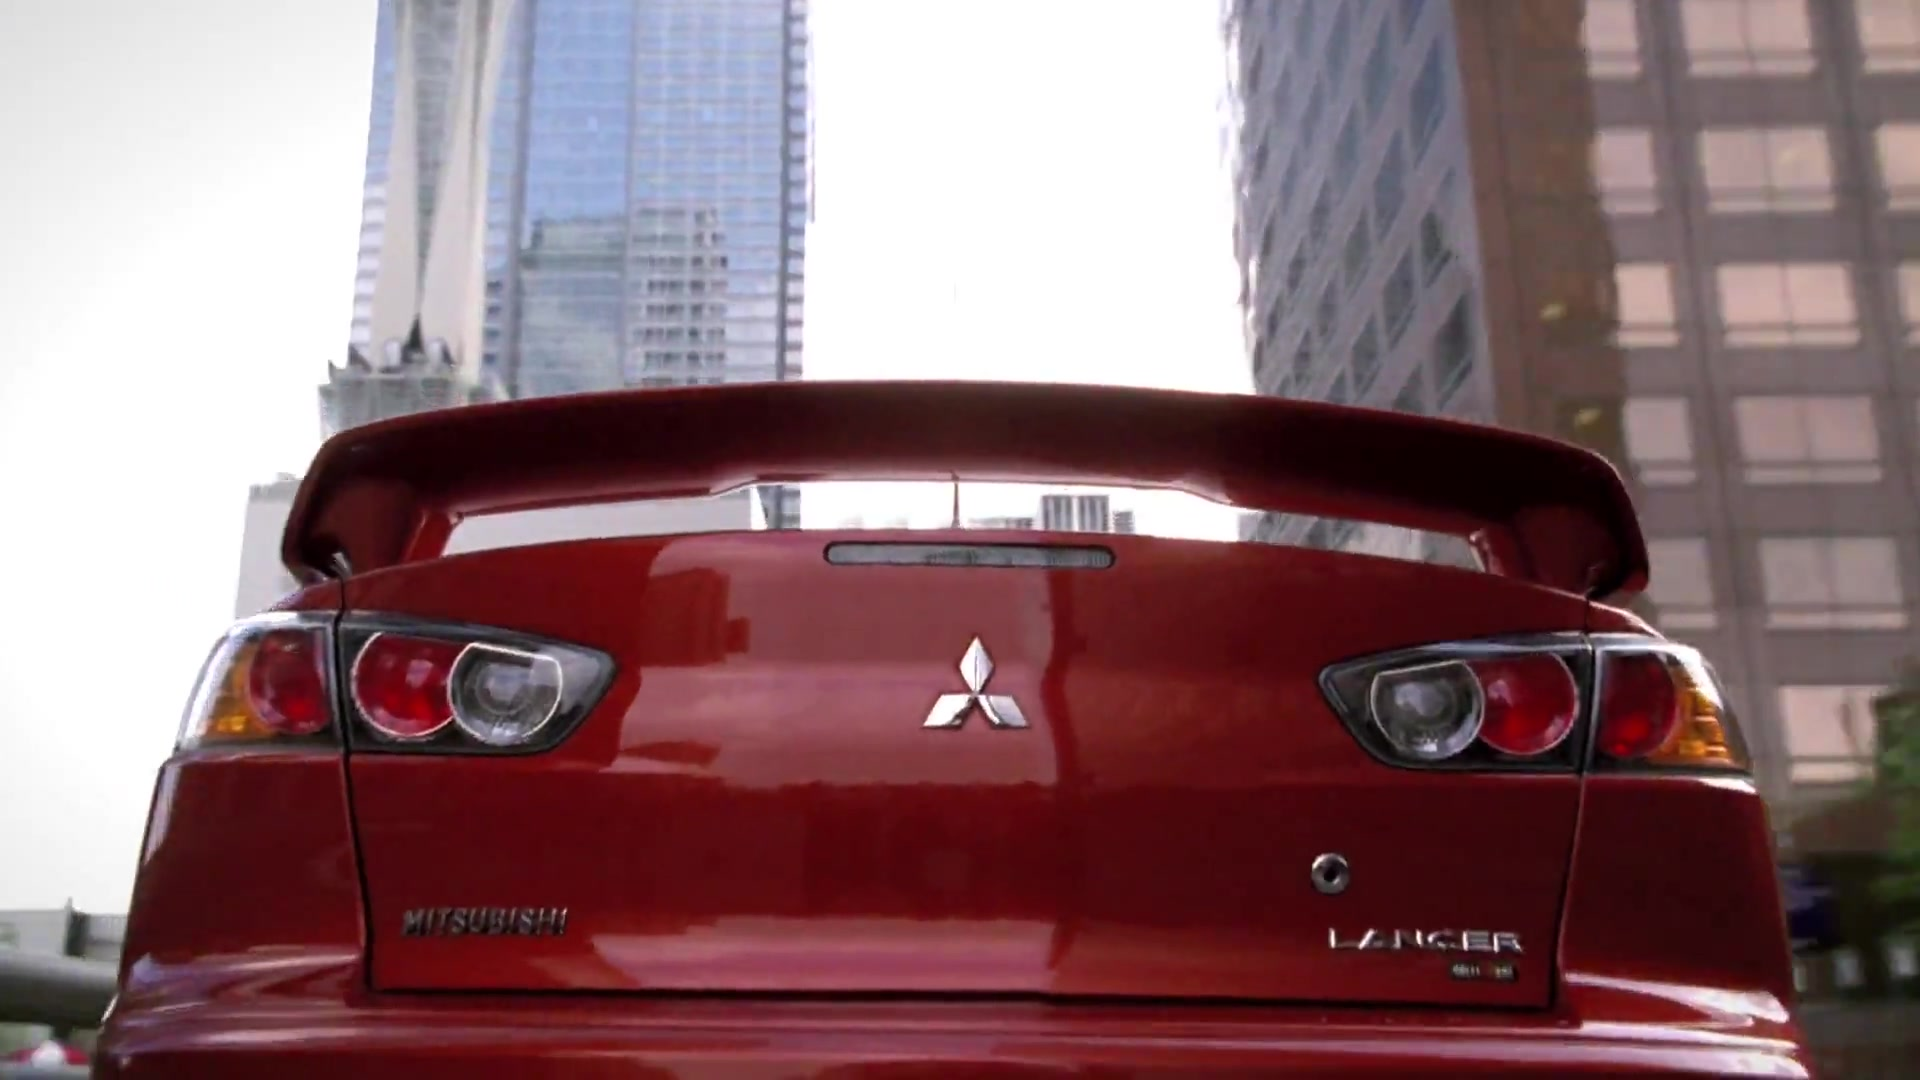car: (98, 367, 1822, 1080)
